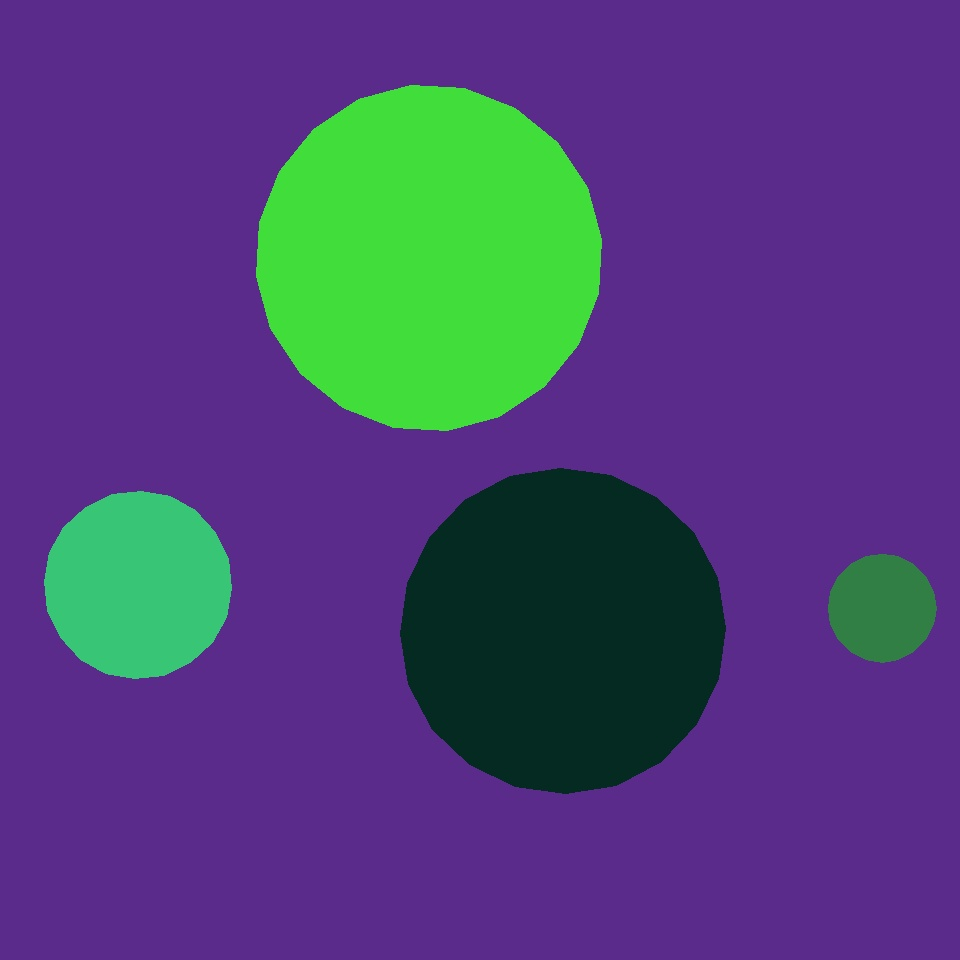square: (629, 352, 842, 565)
triangle: (320, 162, 698, 540), (256, 85, 602, 430), (400, 468, 726, 794), (704, 452, 948, 696), (546, 435, 759, 648), (320, 162, 533, 375), (44, 492, 232, 678), (828, 554, 936, 662), (642, 540, 744, 642)
